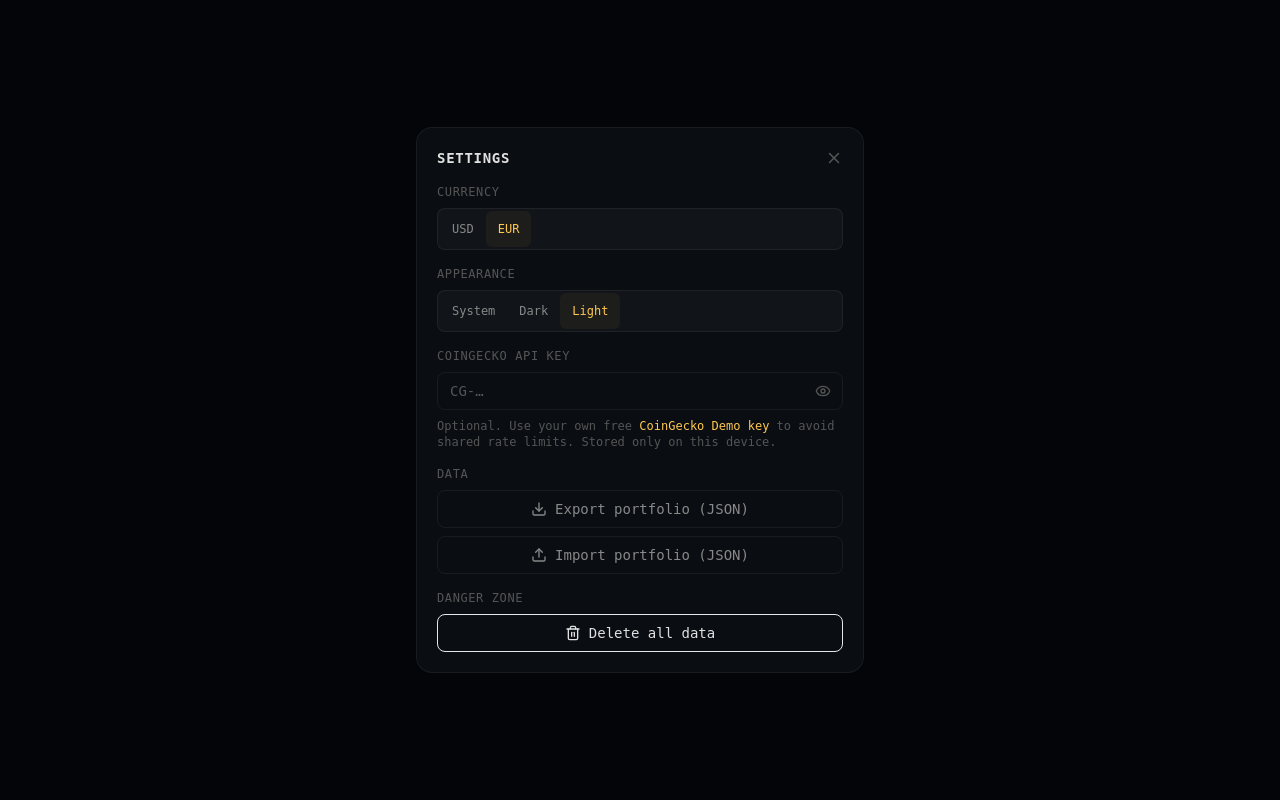
Test: SettingsModal — delete all config › Cancel dismisses the confirmation without deleting
Click the button "Delete all data" at (640, 633), box x1=437 y1=614 x2=843 y2=652
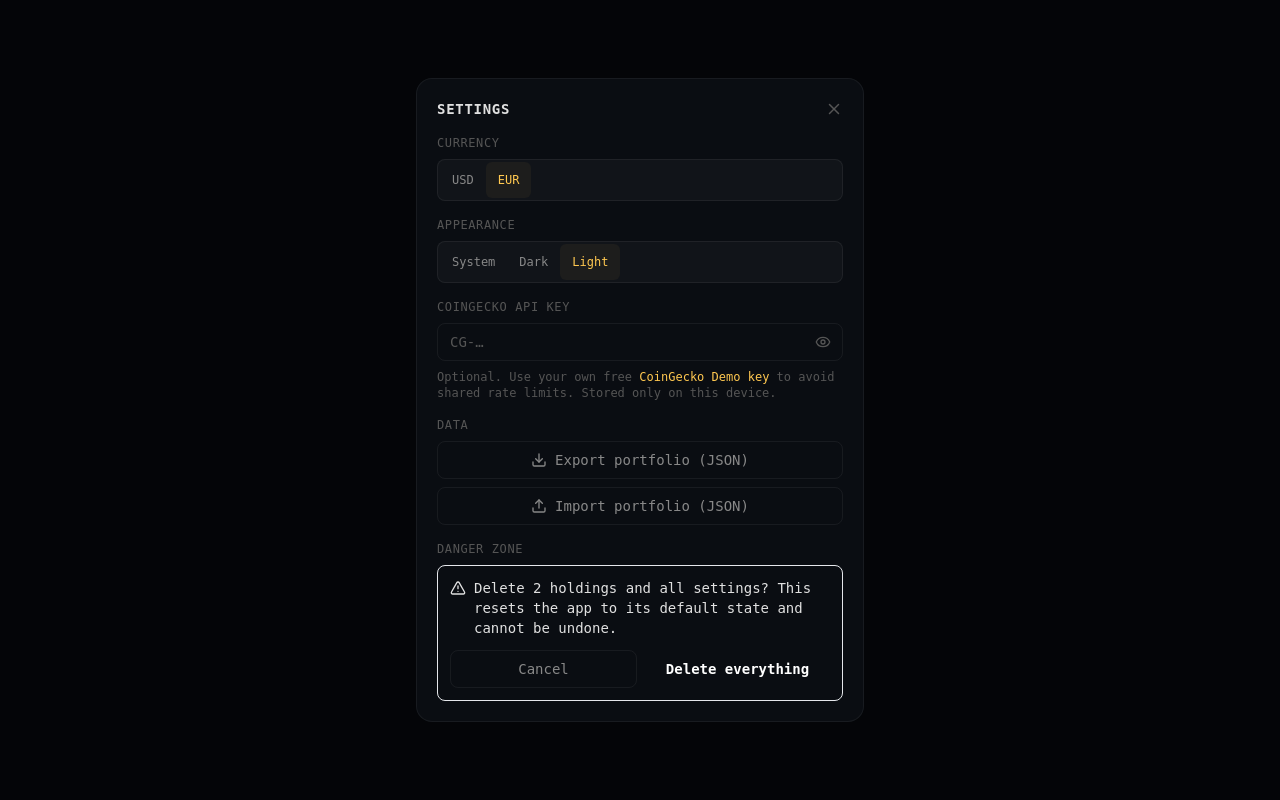
Click the button "Cancel" at (544, 669), box x1=450 y1=650 x2=637 y2=688
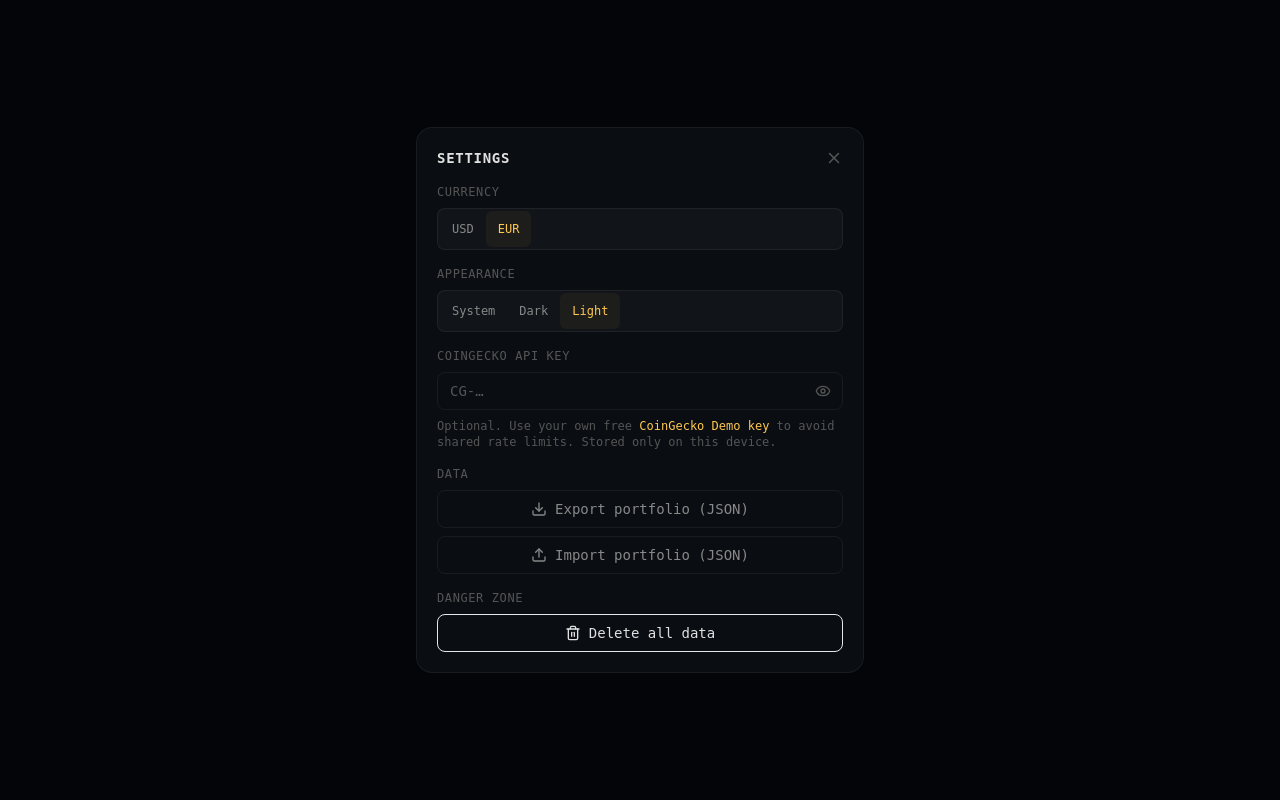
Check: the button "Delete everything" is gone
